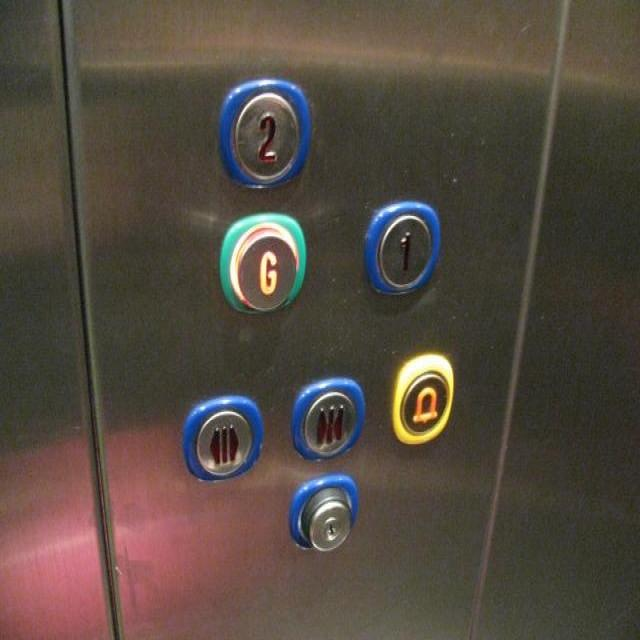1: (364, 200, 440, 303)
2: (216, 75, 311, 192)
G: (218, 210, 307, 318)
alarm: (392, 349, 455, 448)
close: (293, 376, 366, 459)
keyhole: (285, 471, 361, 557)
open: (180, 393, 263, 483)
